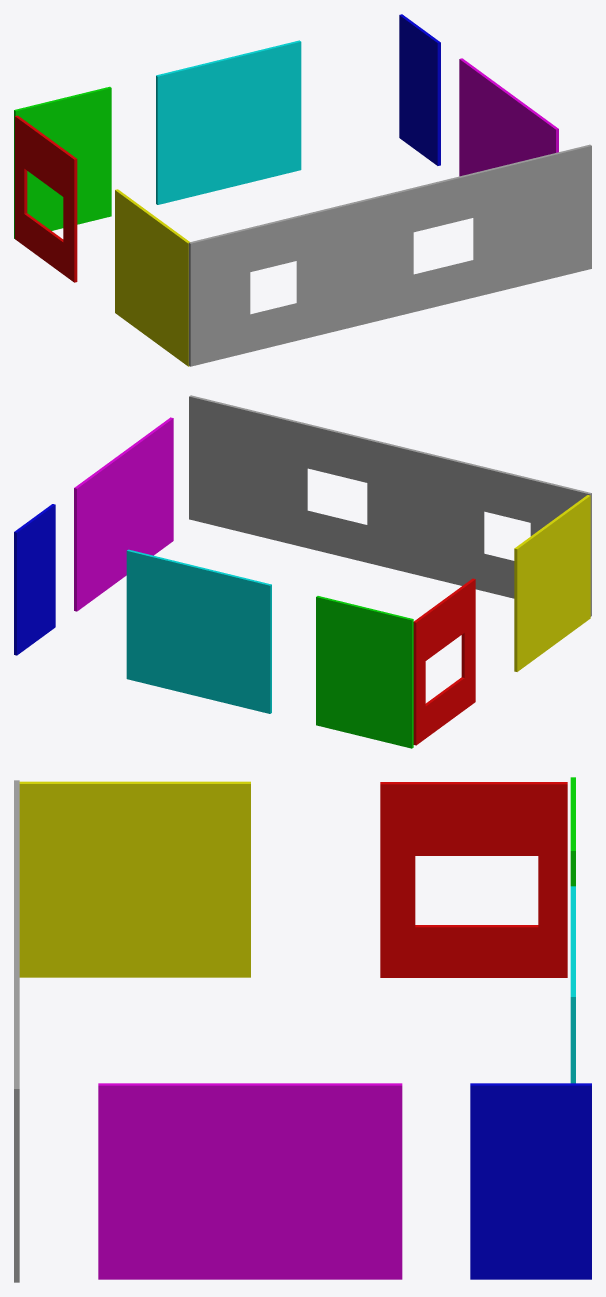
Rendered from LivingRoom.fbx.
3 views of the same model, one above another, from view 1: azimuth 30°, elevation 25°; view 2: azimuth 150°, elevation 25°; view 3: azimuth 270°, elevation 25° (orthographic). The views are drawn at different scales.
Visible parts, largest first — view 1: White, Light_Blue, Yellow, Green, Pink, Red, Dark_Blue; view 2: White, Light_Blue, Green, Pink, Yellow, Red, Dark_Blue; view 3: Pink, Yellow, Red, Dark_Blue, White, Light_Blue, Green.
Part boxes in pixels (x1,y1,x2,y2): White: (188,144,591,366); Light_Blue: (156,40,301,204); Yellow: (115,189,189,366); Green: (14,86,111,238); Pink: (459,58,558,176); Red: (15,115,77,282); Dark_Blue: (399,14,440,165); White: (189,395,591,616); Light_Blue: (126,549,271,713); Green: (316,596,413,748); Pink: (74,417,173,611); Yellow: (514,495,590,671); Red: (413,578,475,745); Dark_Blue: (14,504,55,655); Pink: (98,1083,402,1279); Yellow: (19,781,250,977); Red: (380,782,567,977); Dark_Blue: (470,1083,591,1279); White: (14,780,19,1282); Light_Blue: (570,886,575,1083); Green: (570,777,575,886).
Bounding box in the file's own units: 251 × 76.52 × 198.
